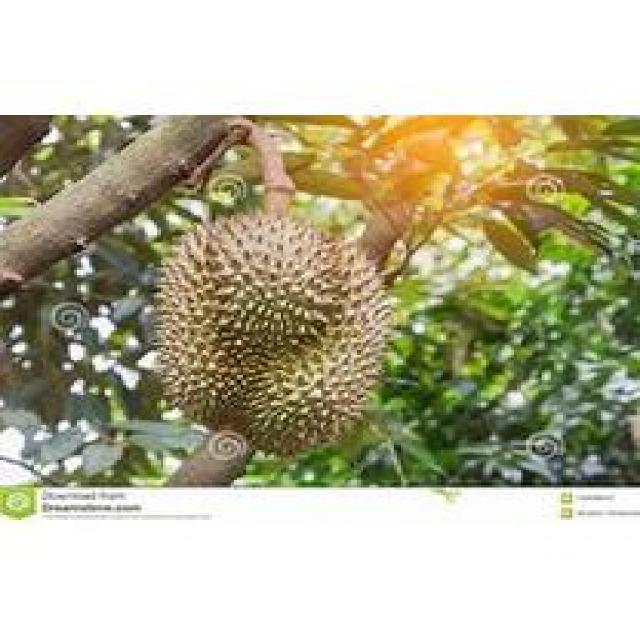fruit: (129, 188, 406, 470)
